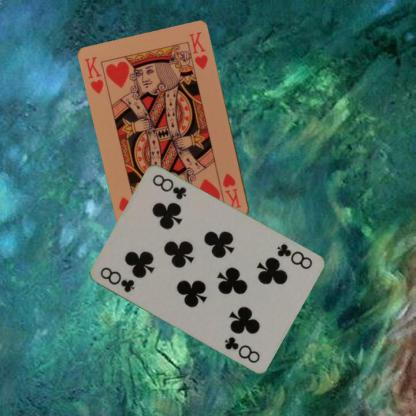8c: (274, 241, 313, 271), (97, 265, 136, 294)
Kh: (220, 170, 243, 212), (82, 54, 105, 96)
